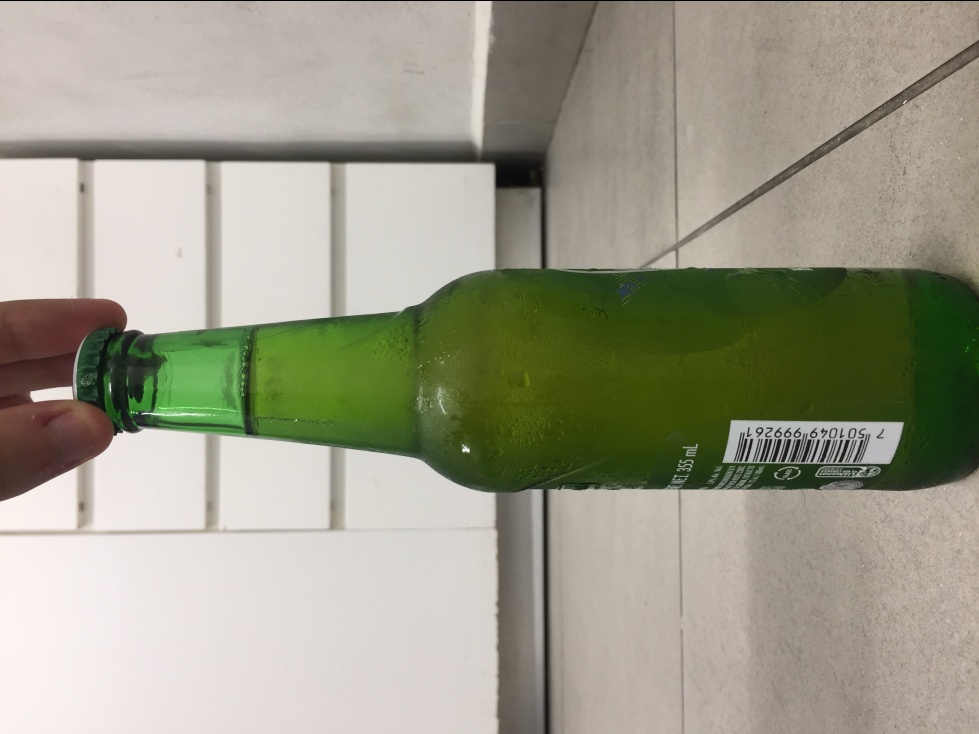heineken: (69, 263, 979, 495)
